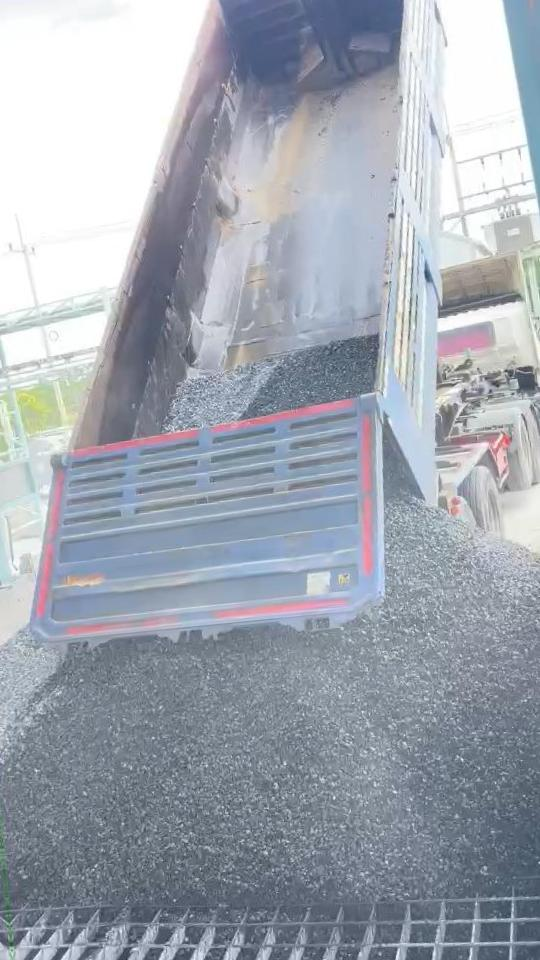gravel: (0, 452, 540, 905), (164, 336, 378, 430), (0, 628, 61, 760)
